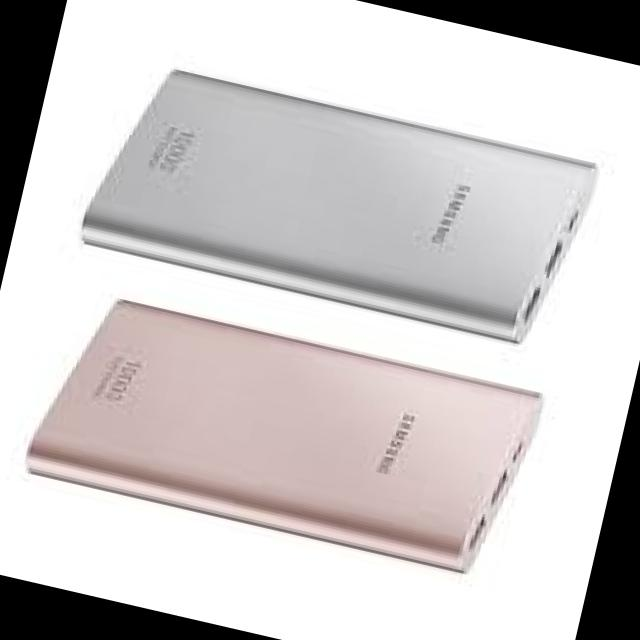power_bank: (15, 278, 548, 584), (73, 51, 602, 357)
